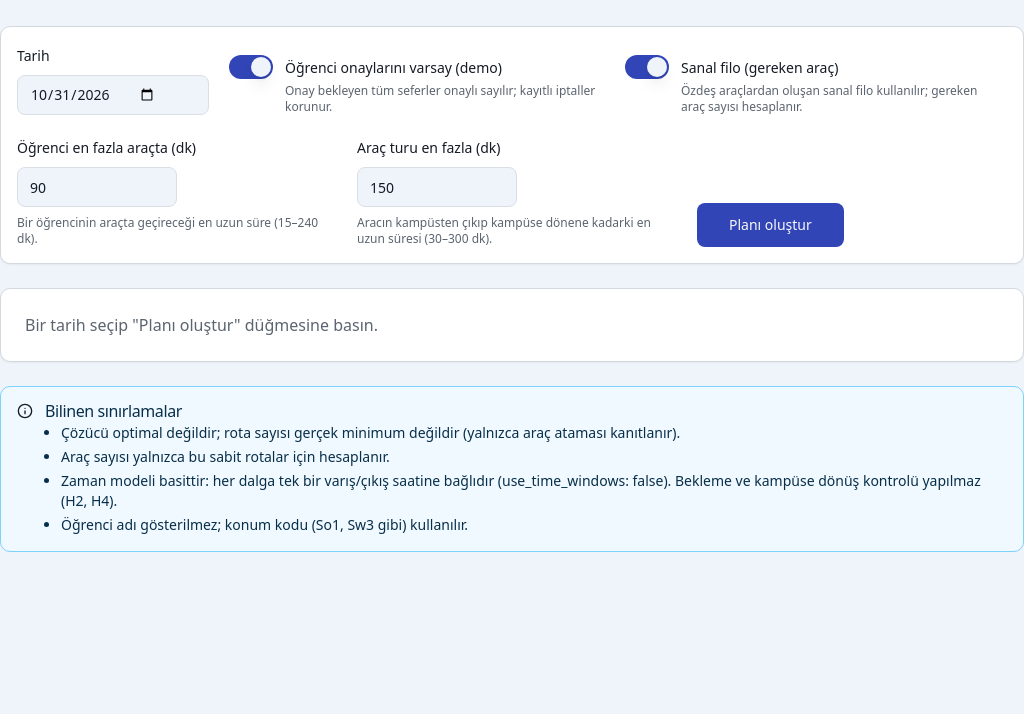
Scenario: DailyPlanPage › says capacity is the binding constraint when the vehicles equal the floor
The image size is (1024, 714).
Step 1. Type "2026-10-05" into the date field labelled "Tarih" → (113, 95), box 17,75 -> 209,115
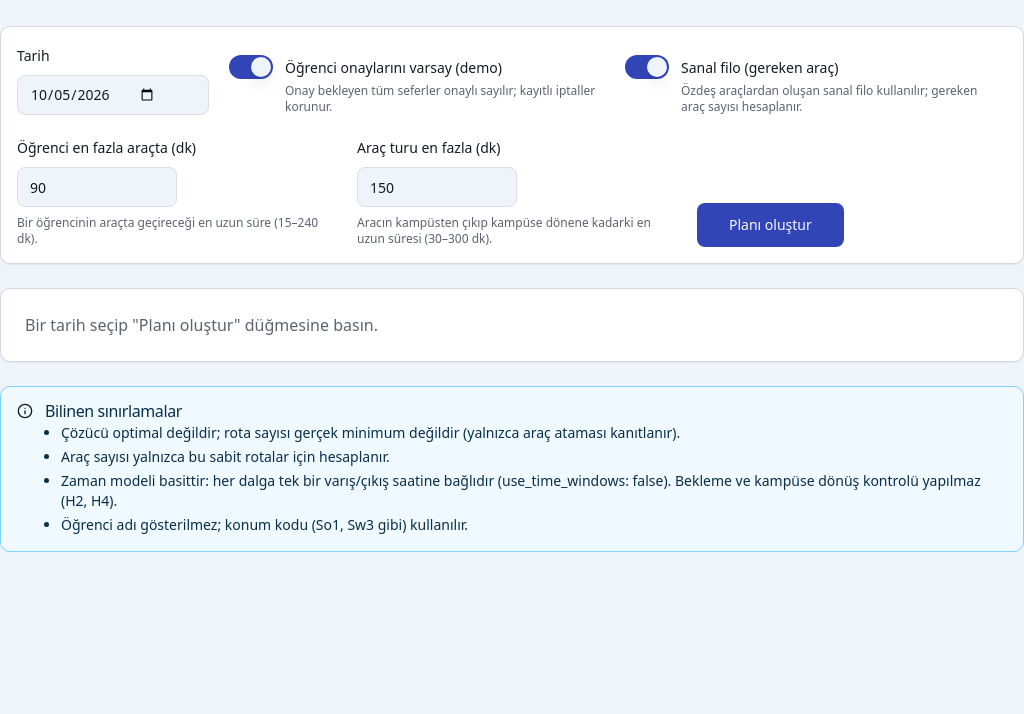
Step 2. Click the button "Planı oluştur" → (770, 225), box 697,203 -> 844,247
(page scrolled)
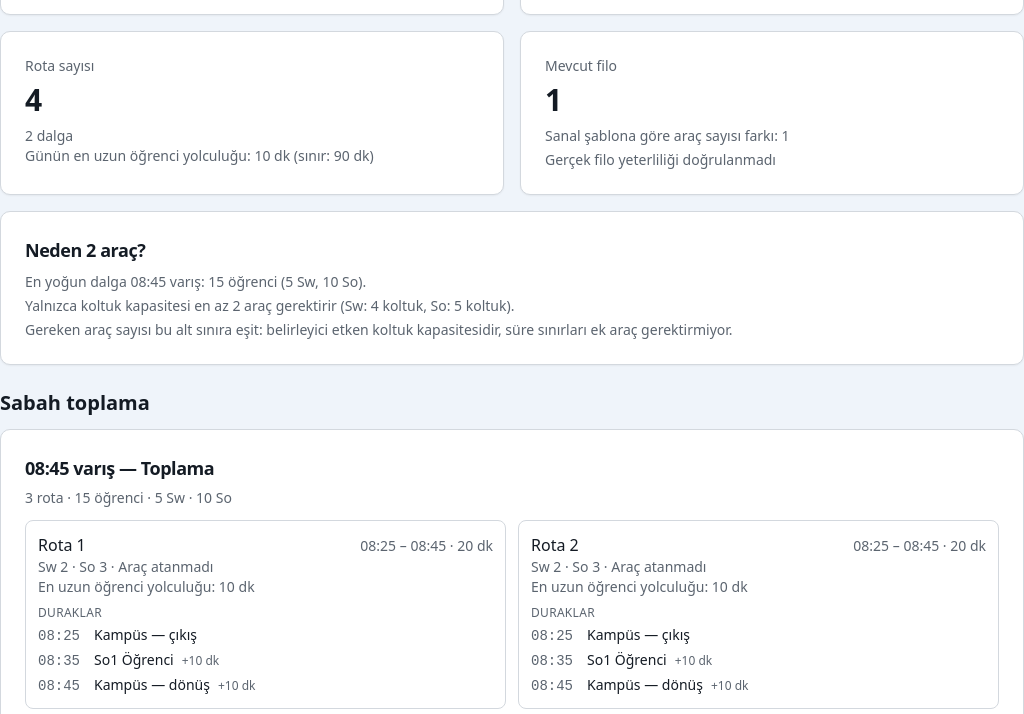
Expected: the text with test id "why-conclusion" shows "belirleyici etken koltuk kapasitesidir", 25,320 -> 733,339
